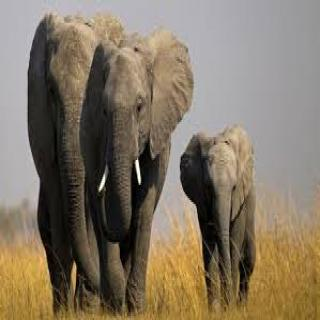Elephant: (21, 0, 118, 299), (96, 28, 195, 306), (178, 122, 262, 310)
